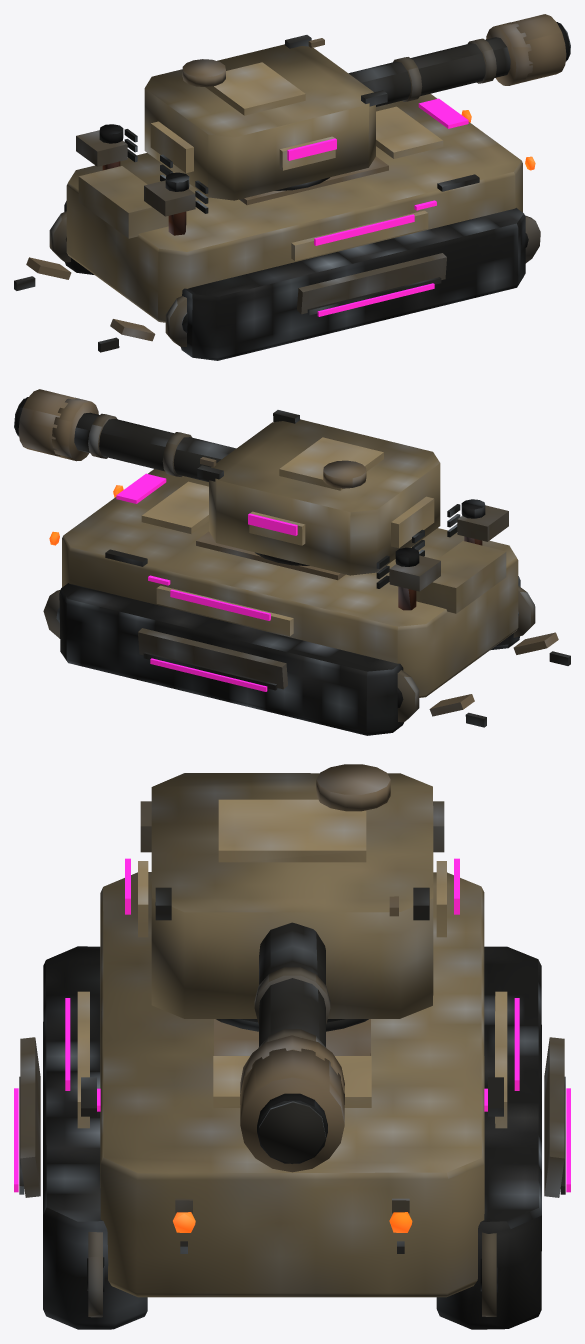
File: tank.glb
3 renders of one model, top to bottom at view 1: azimuth 30°, elevation 25°; view 2: azimuth 150°, elevation 25°; view 3: azimuth 270°, elevation 25°, orthographic. The views are drawn at different scales.
Visible parts, largest first — view 1: Sandwar3D; view 2: Sandwar3D; view 3: Sandwar3D.
Part boxes in pixels (<box>): Sandwar3D: <box>14,14,570,360</box>; Sandwar3D: <box>14,389,570,735</box>; Sandwar3D: <box>14,764,570,1329</box>.
Bounding box in the file's own units: 2.91 × 1.15 × 1.64.
Materials: 11 (10 with a texture image).
